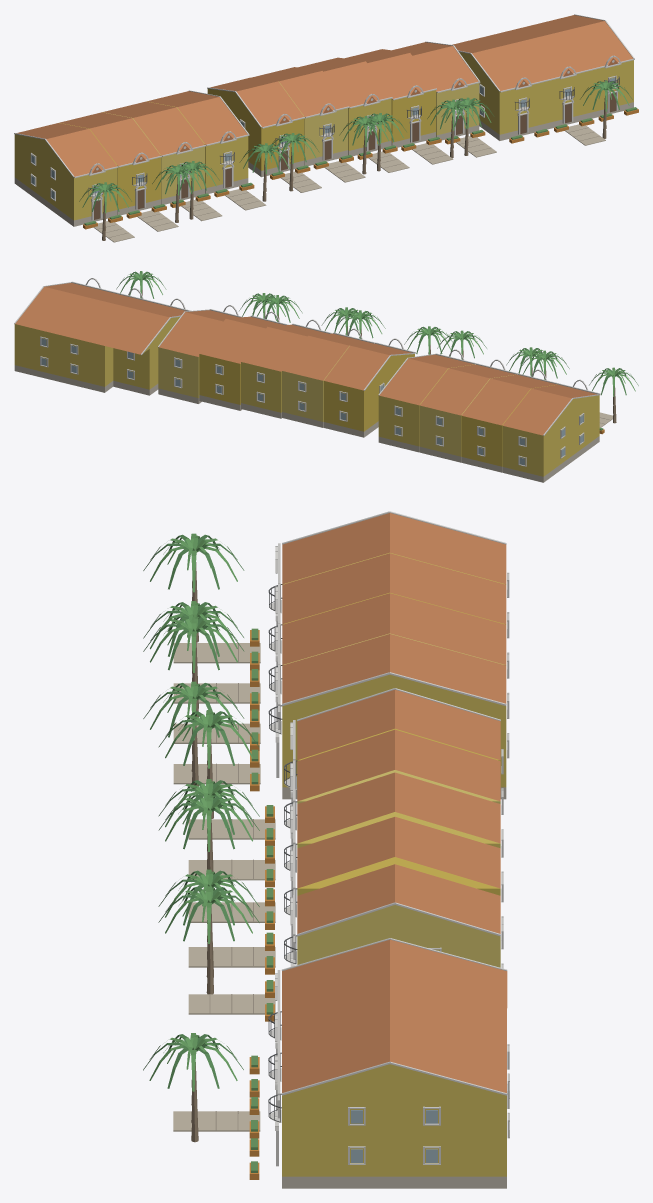
The model's file is nw_cb_west.glb.
3 renders of one model, top to bottom at view 1: azimuth 30°, elevation 25°; view 2: azimuth 150°, elevation 25°; view 3: azimuth 270°, elevation 25°, orthographic. The views are drawn at different scales.
Parts seen in each view (by area): view 1: nw_cb_west_lod0; view 2: nw_cb_west_lod0; view 3: nw_cb_west_lod0.
Boxes of the visible parts, x1,y1,x2,y2 form: nw_cb_west_lod0: (14,14,638,242); nw_cb_west_lod0: (14,271,638,482); nw_cb_west_lod0: (143,511,509,1188).
Size of what is drawn, in the model's own units: 66.47 by 9.4 by 19.4.
